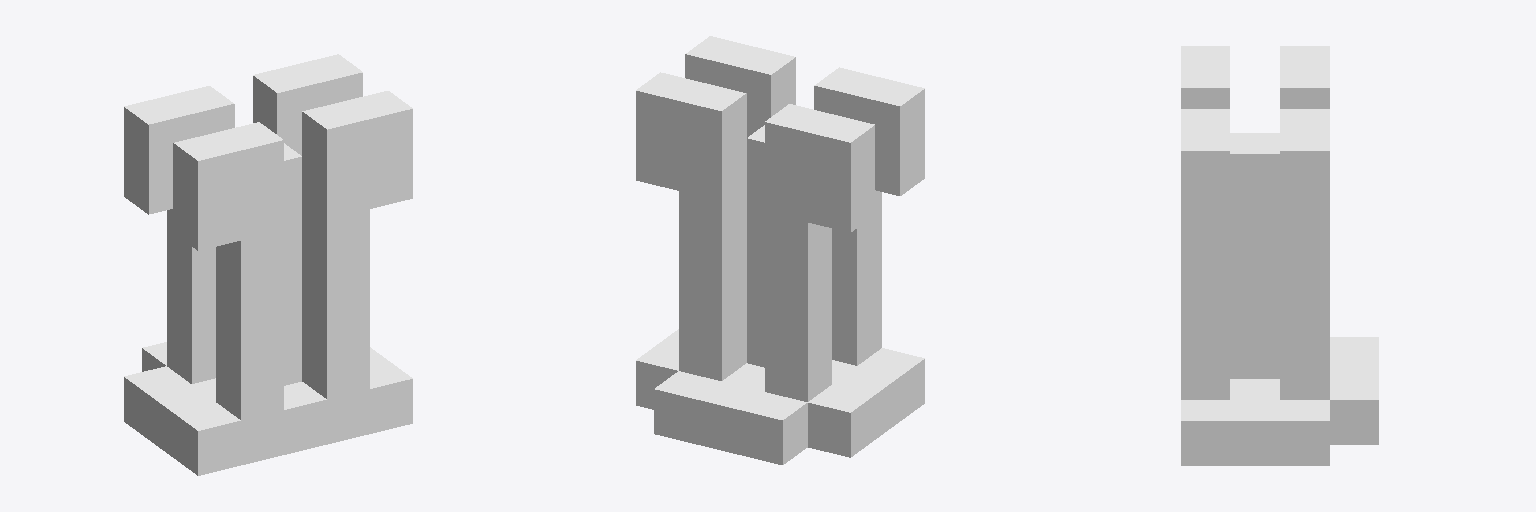
Rendered from kabu_2.obj.
3 renders of one model, left to right at view 1: azimuth 30°, elevation 25°; view 2: azimuth 150°, elevation 25°; view 3: azimuth 270°, elevation 25°, orthographic.
Visible parts, largest first — view 1: object 1; view 2: object 1; view 3: object 1.
Boxes of the visible parts, <box> form: object 1: <box>124,54,412,475</box>; object 1: <box>636,36,924,464</box>; object 1: <box>1181,46,1378,465</box>.
Size of the model in its own units: 0.5 by 0.7 by 0.4.